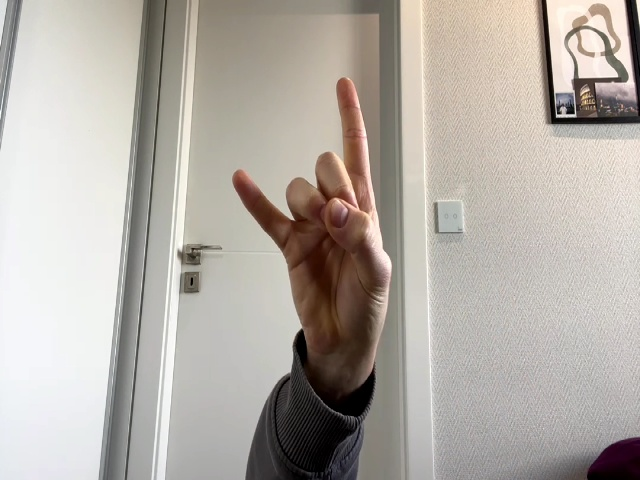Y: (233, 78, 392, 339)
